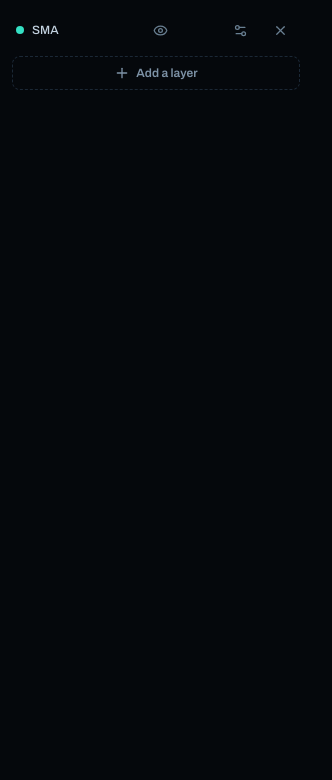
LayerPanel › shows the catalogue in the panel rather than on top of it
What coordinates should you click on to do the following:
click the button "Add a layer"
I would click on:
 (156, 73)
Its box is x1=12 y1=56 x2=300 y2=90.
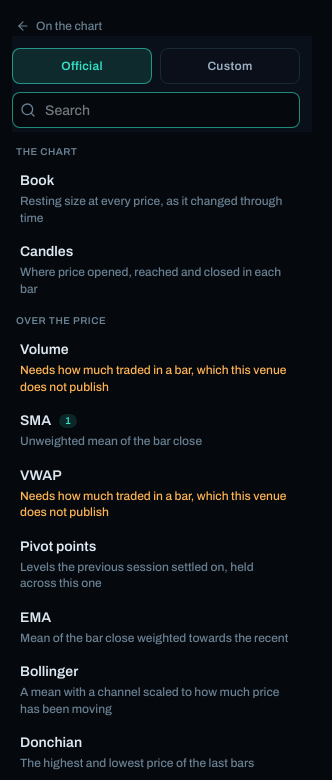
Check: the search field is shown, box x1=12 y1=92 x2=300 y2=128
